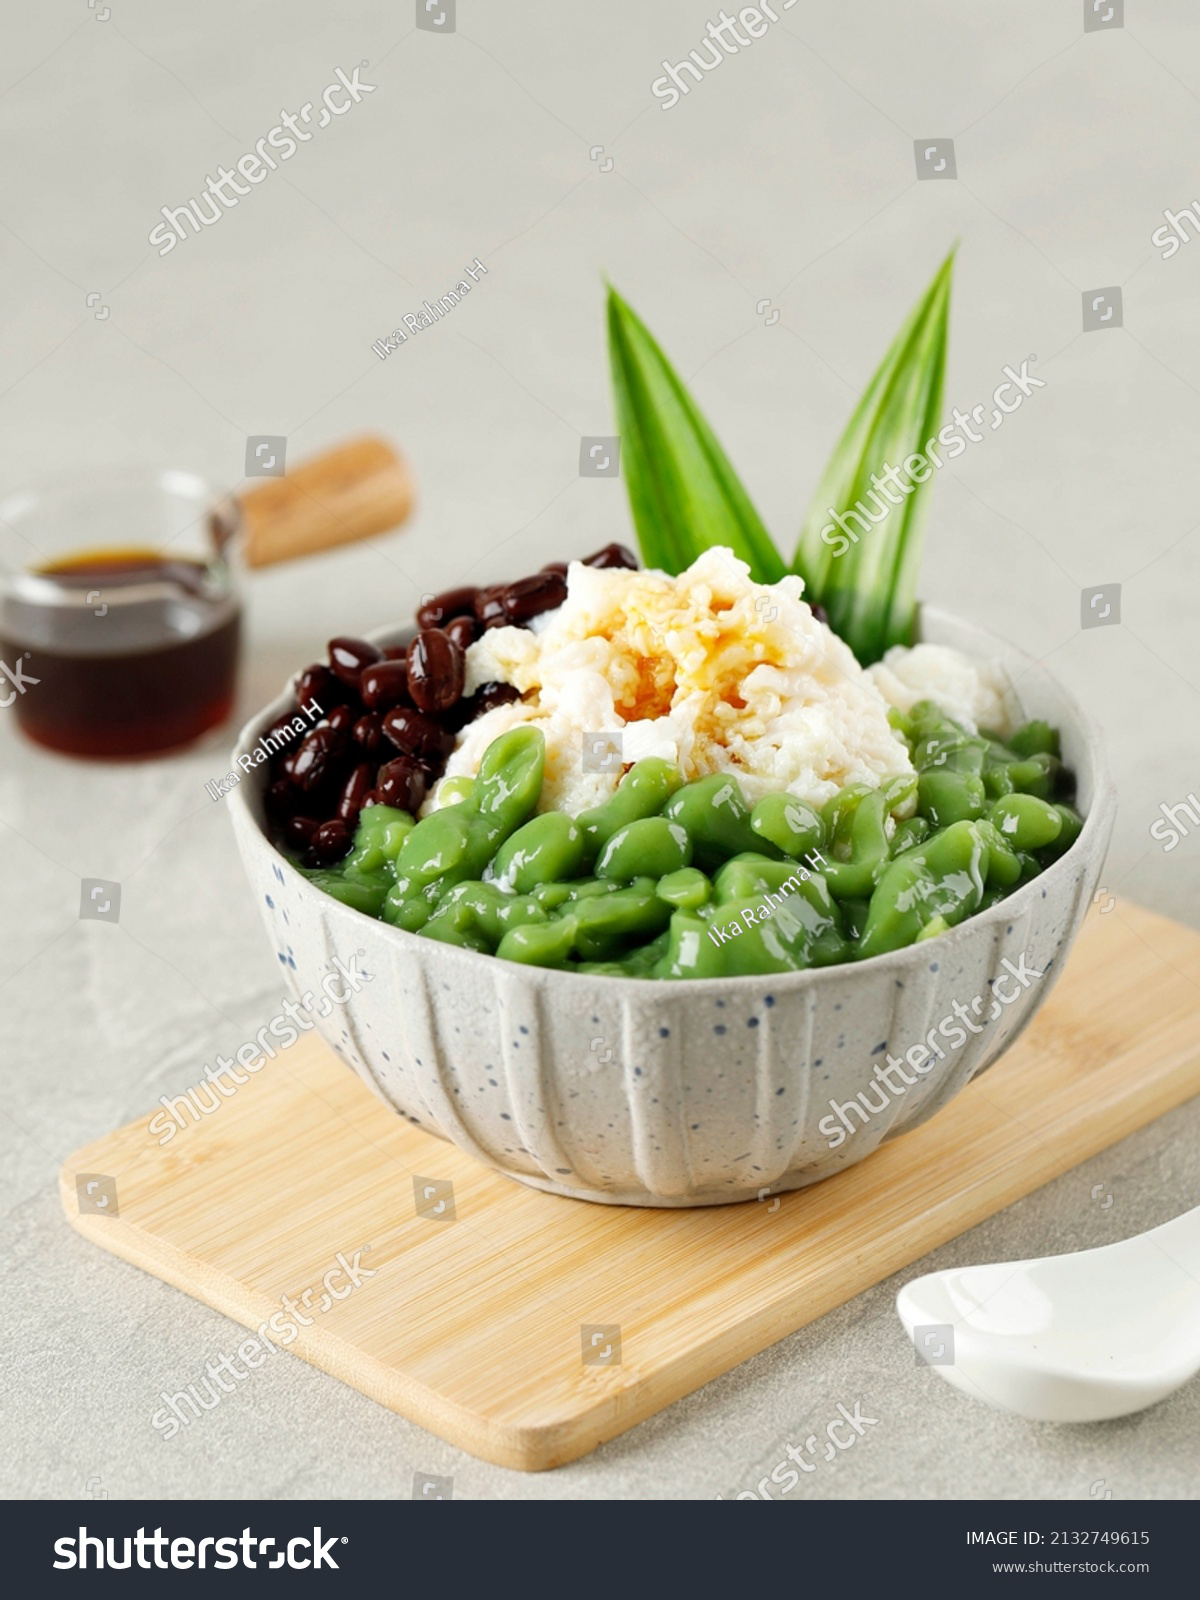Chendol: (222, 401, 1061, 1073)
